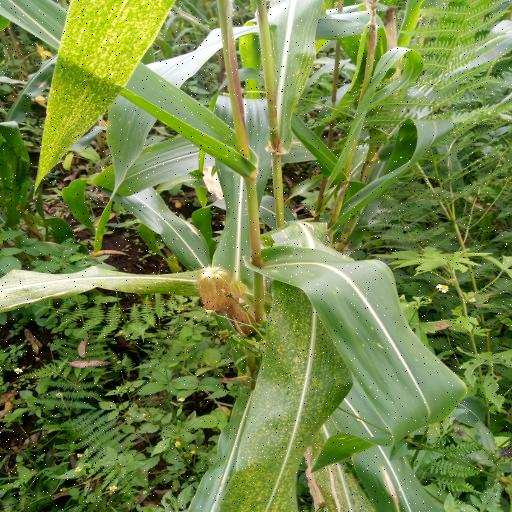Corn_Brown_Spots: (22, 0, 188, 188), (236, 272, 351, 512)
